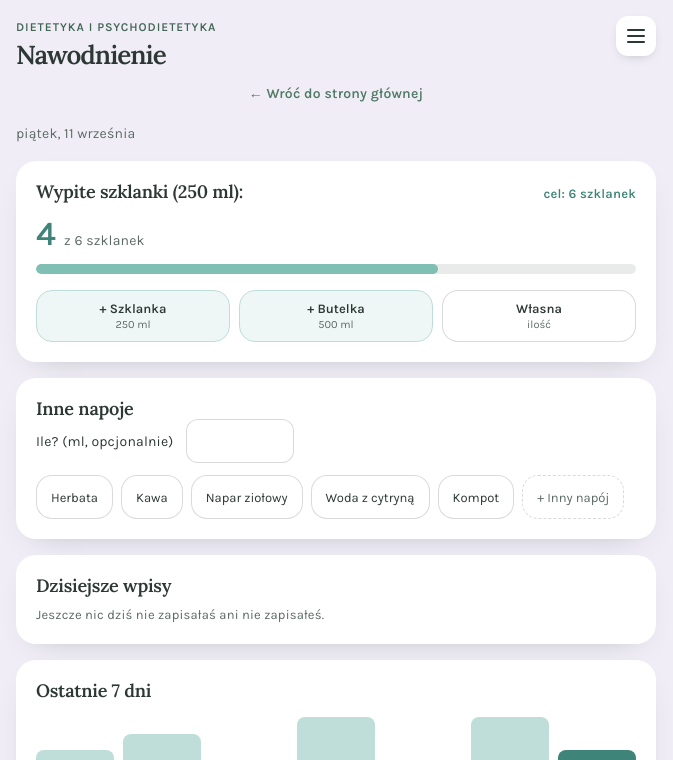
Test: inne napoje › lets them move the counter, because every drink counts now
Expected: the text "4" is shown, [36,217,56,251]
Step 1. Click the button "Herbata" → click(74, 498), box [36,476,113,520]
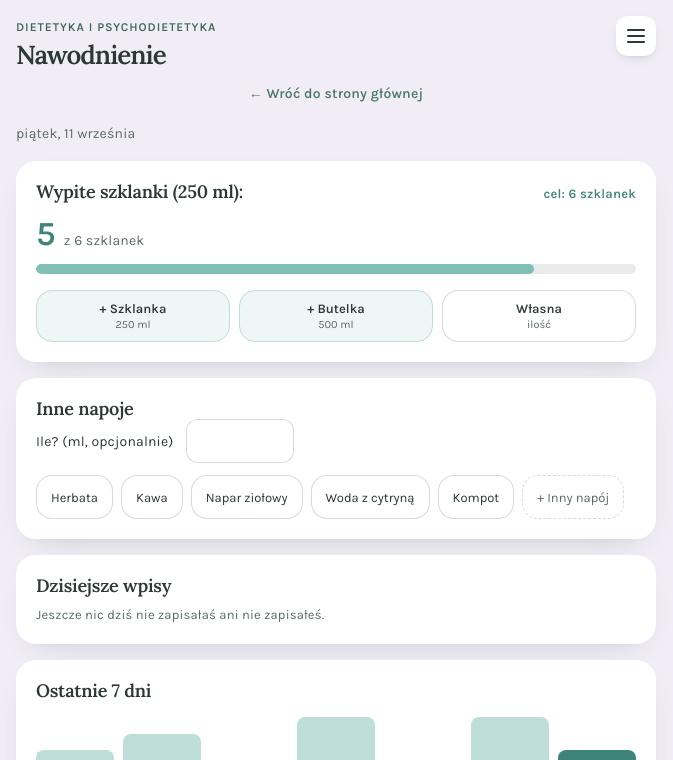
Result: the text "5" is shown at [36,217,56,251]
